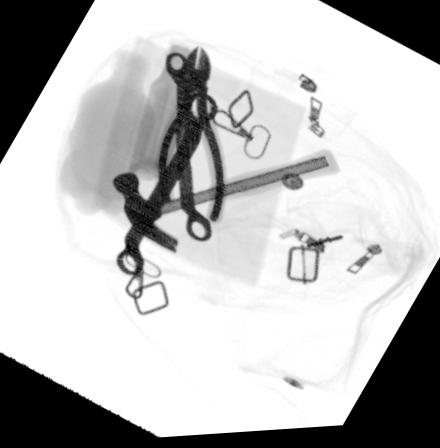Hammer: (110, 152, 339, 257)
Pliers: (155, 47, 224, 224)
Wrench: (111, 95, 219, 278), (161, 55, 213, 248)
